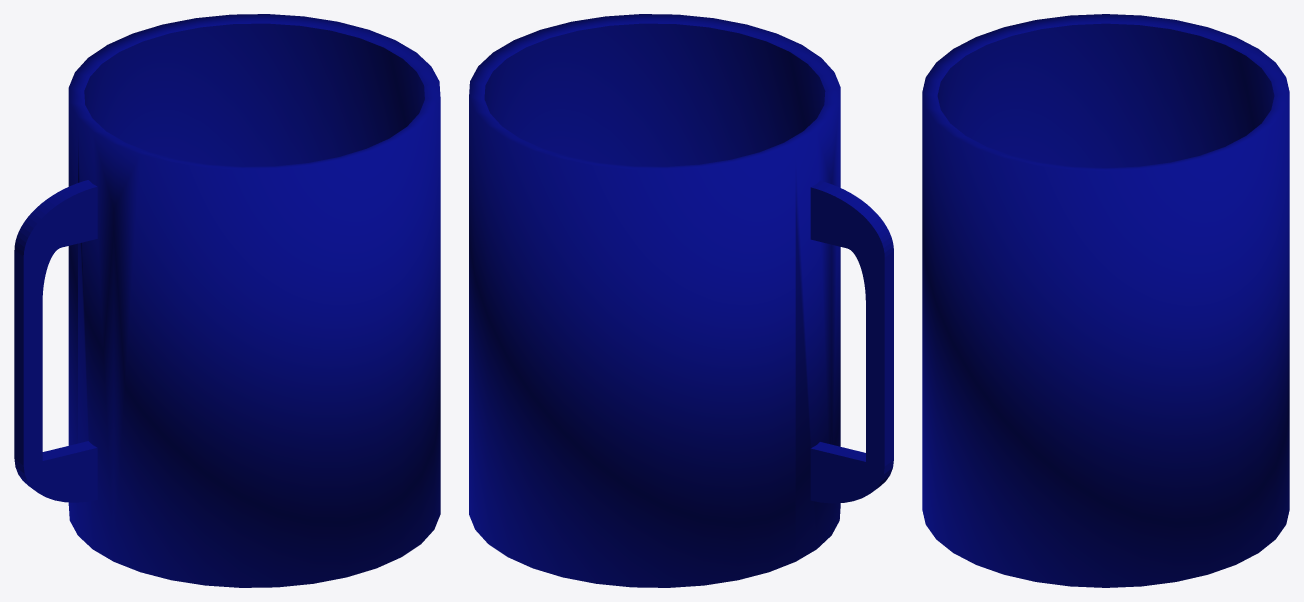
Rendered from coffee.fbx.
3 renders of one model, left to right at view 1: azimuth 30°, elevation 25°; view 2: azimuth 150°, elevation 25°; view 3: azimuth 270°, elevation 25°, orthographic.
Parts seen in each view (by area): view 1: Mug, Mug (Interior), Mug (Handle); view 2: Mug, Mug (Interior), Mug (Handle); view 3: Mug, Mug (Interior).
Part boxes in pixels (x1,y1,x2,y2): Mug: (68,14,440,587); Mug (Interior): (84,23,424,166); Mug (Handle): (14,180,97,502); Mug: (469,14,840,587); Mug (Interior): (484,23,825,166); Mug (Handle): (810,180,893,503); Mug: (922,14,1289,587); Mug (Interior): (937,23,1274,167).
Bounding box in the file's own units: 0.4971 × 0.5 × 0.4.
